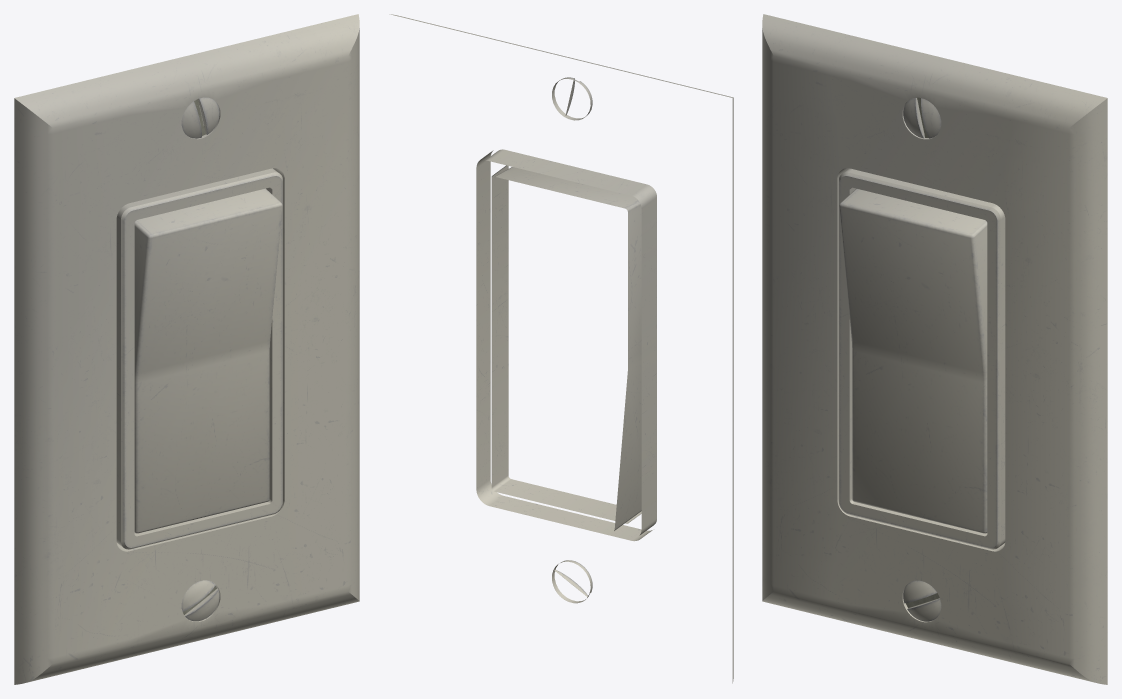
The model's file is Lichtschalter.glb.
3 views of the same model, side by side, from view 1: azimuth 30°, elevation 25°; view 2: azimuth 150°, elevation 25°; view 3: azimuth 330°, elevation 25° (orthographic).
Visible parts, largest first — view 1: CoverPlate.001, Switch.001, SwitchHolder.001, ScrewTop.001, ScrewBottom.001; view 2: SwitchHolder.001, CoverPlate.001, Switch.001; view 3: CoverPlate.001, Switch.001, SwitchHolder.001, ScrewBottom.001, ScrewTop.001.
Boxes of the visible parts, x1,y1,x2,y2 form: CoverPlate.001: [14, 14, 359, 684]; Switch.001: [134, 188, 282, 533]; SwitchHolder.001: [116, 168, 282, 549]; ScrewTop.001: [181, 580, 219, 621]; ScrewBottom.001: [181, 97, 219, 138]; SwitchHolder.001: [483, 149, 656, 535]; CoverPlate.001: [389, 14, 733, 683]; Switch.001: [495, 167, 641, 530]; CoverPlate.001: [762, 14, 1107, 684]; Switch.001: [839, 188, 987, 533]; SwitchHolder.001: [839, 168, 1005, 549]; ScrewBottom.001: [903, 97, 941, 138]; ScrewTop.001: [903, 580, 941, 621].
Bounding box in the file's own units: 0.084 × 0.1368 × 0.0183.
1 material, 1 textured.
